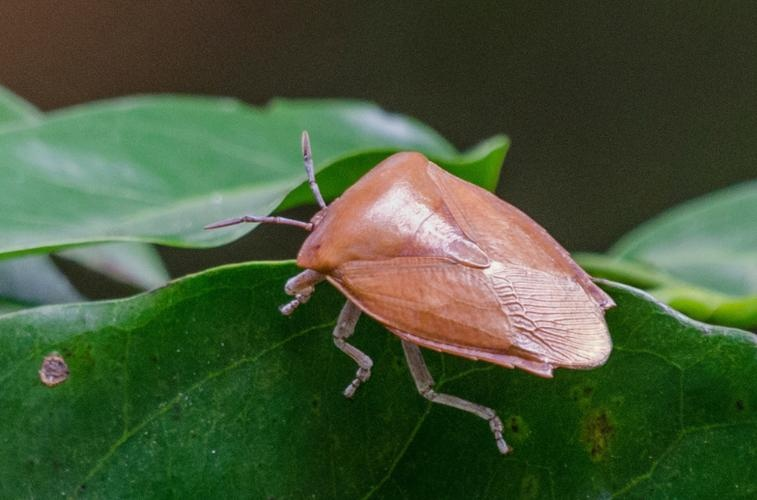Stink_Bug: (290, 153, 614, 388)
